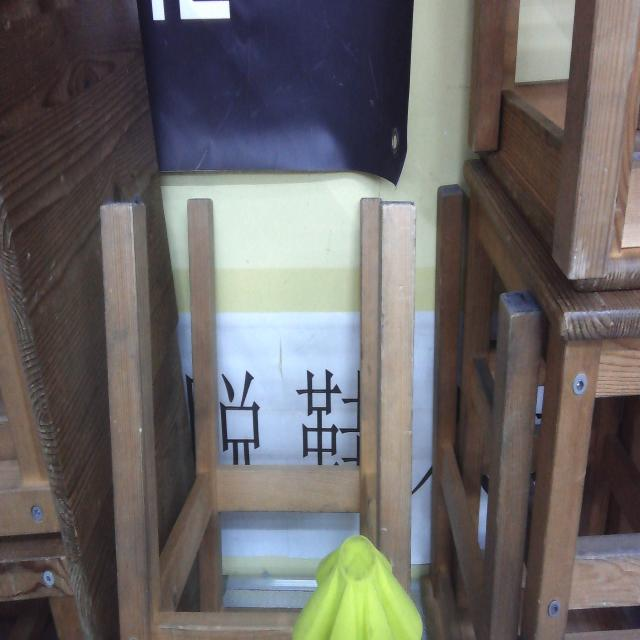Yellow-Stake-Head: (293, 534, 423, 639)
